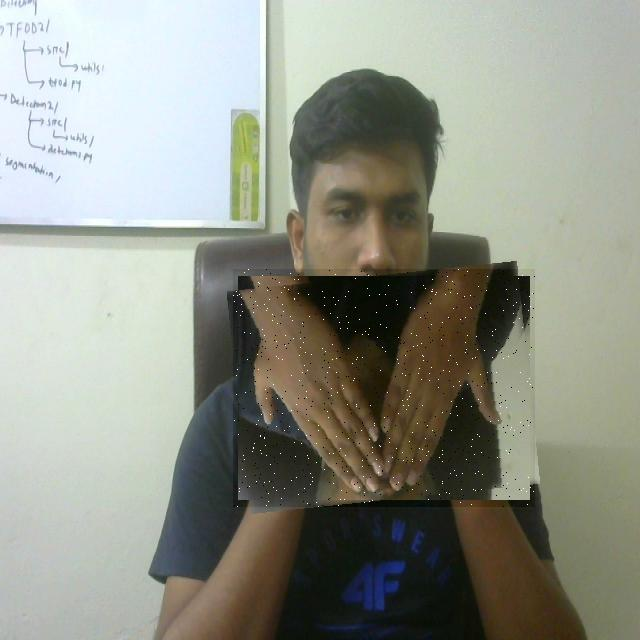Thanks: (233, 269, 535, 507)
